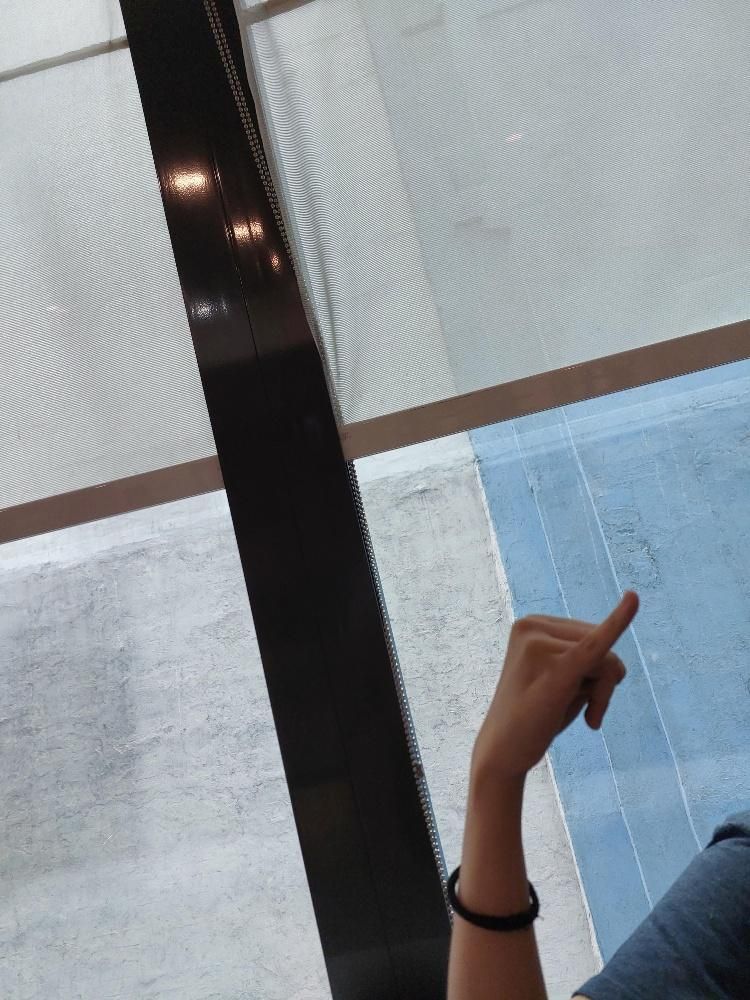j: (479, 590, 638, 772)
